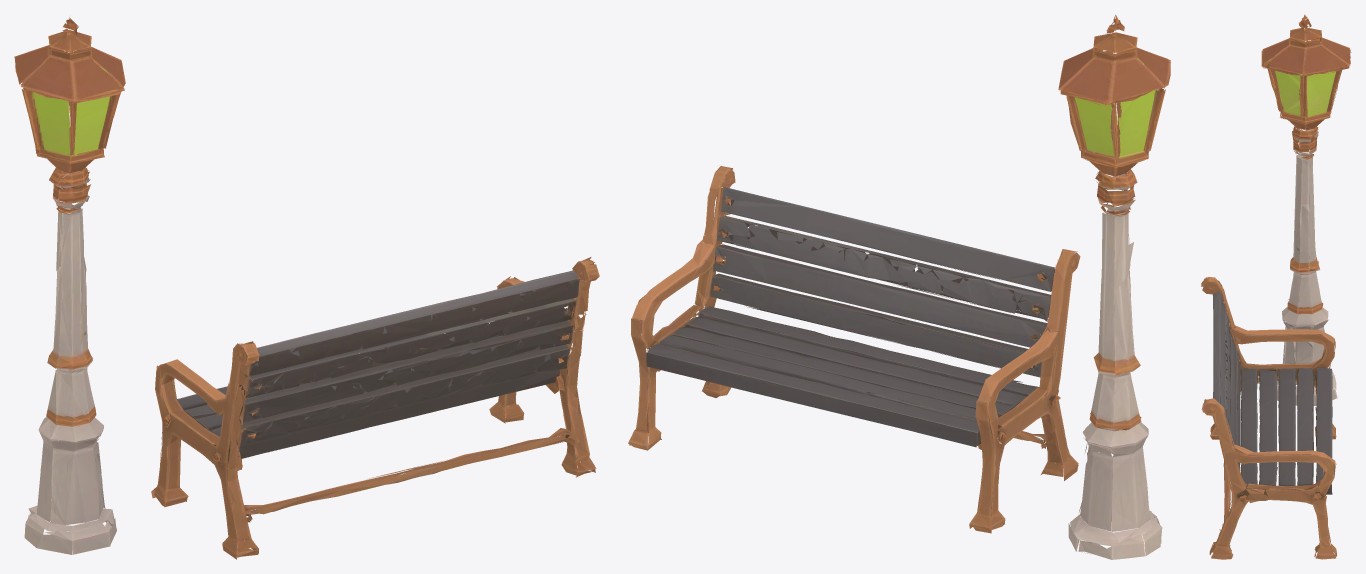
Rendered from banc-lampadaire.glb.
The picture shows the model from 3 angles, left to right: view 1: azimuth 30°, elevation 25°; view 2: azimuth 150°, elevation 25°; view 3: azimuth 270°, elevation 25°; orthographic projection. The views are drawn at different scales.
Visible parts, largest first — view 1: banc-lampadaire; view 2: banc-lampadaire; view 3: banc-lampadaire.
Part boxes in pixels (left/top/right/bottom): banc-lampadaire: left=14, top=17, right=599, bottom=559; banc-lampadaire: left=628, top=14, right=1170, bottom=559; banc-lampadaire: left=1201, top=14, right=1351, bottom=559.
Bounding box in the file's own units: 3.56 × 3.5 × 1.25.
Materials: 1 (1 with a texture image).
